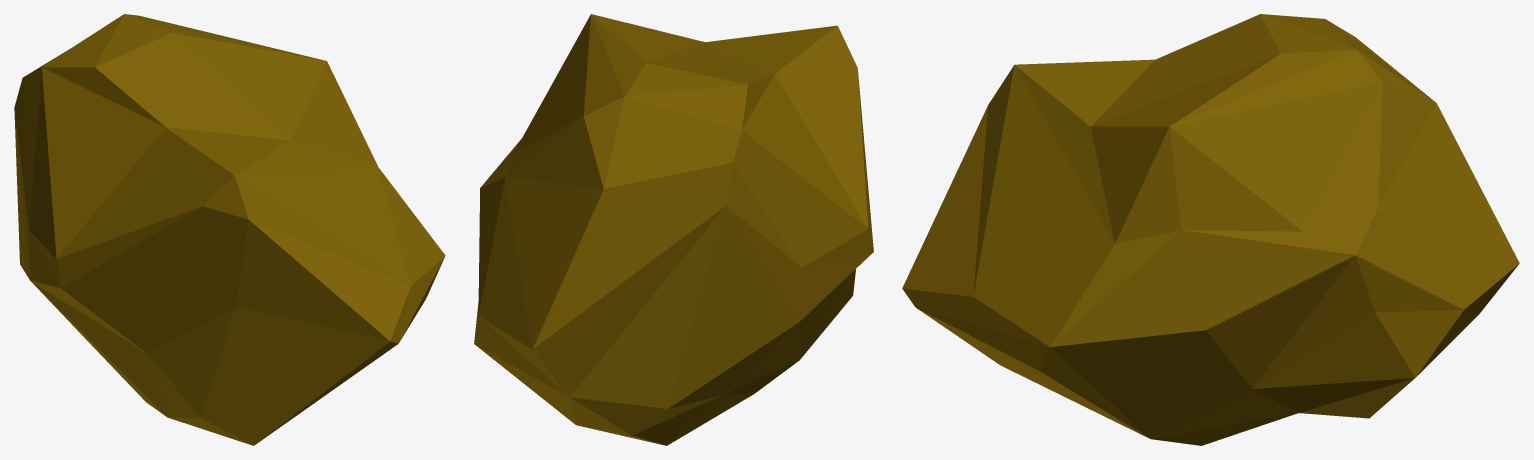
Rendered from Rock_2.fbx.
3 views of the same model, side by side, from view 1: azimuth 30°, elevation 25°; view 2: azimuth 150°, elevation 25°; view 3: azimuth 270°, elevation 25° (orthographic). The views are drawn at different scales.
Visible parts, largest first — view 1: Rock_Div_2; view 2: Rock_Div_2; view 3: Rock_Div_2.
Boxes of the visible parts, <box> form: Rock_Div_2: <box>14,14,445,445</box>; Rock_Div_2: <box>474,14,873,445</box>; Rock_Div_2: <box>902,14,1519,445</box>.
Size of the model in its own units: 9.29 by 9.07 by 13.7.
